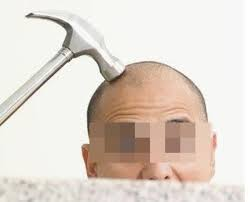hammer: (1, 7, 129, 120)
